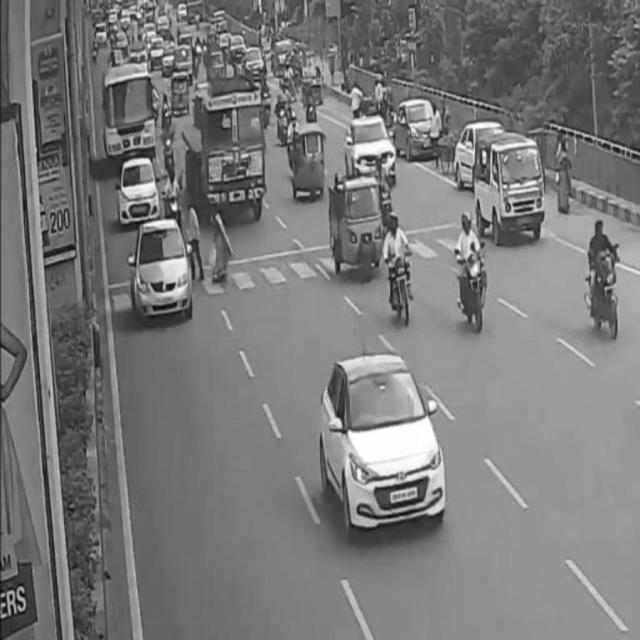person: (183, 198, 205, 280), (209, 204, 229, 290)
vehicle: (319, 352, 450, 528), (199, 90, 263, 220), (473, 136, 545, 237), (134, 223, 195, 324), (327, 177, 385, 278), (585, 217, 623, 341), (343, 113, 398, 183), (457, 211, 487, 337), (384, 211, 416, 324), (293, 124, 329, 200), (120, 156, 158, 222), (164, 171, 184, 233)
